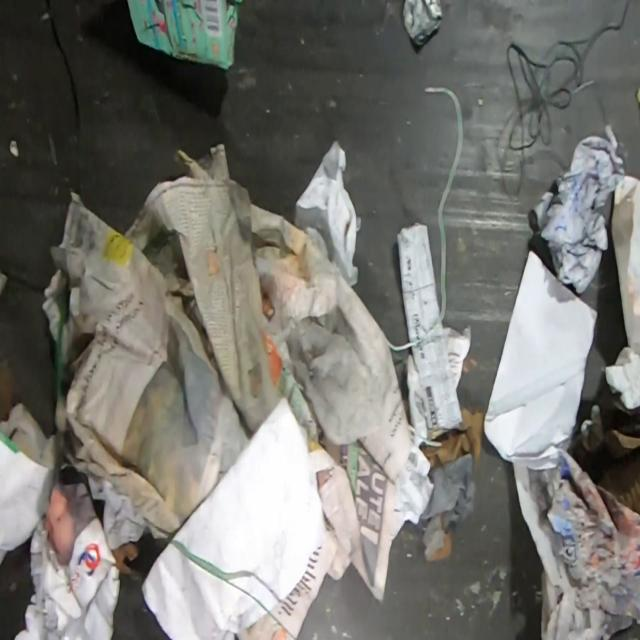cardboard: (127, 1, 240, 70), (568, 424, 640, 519)
